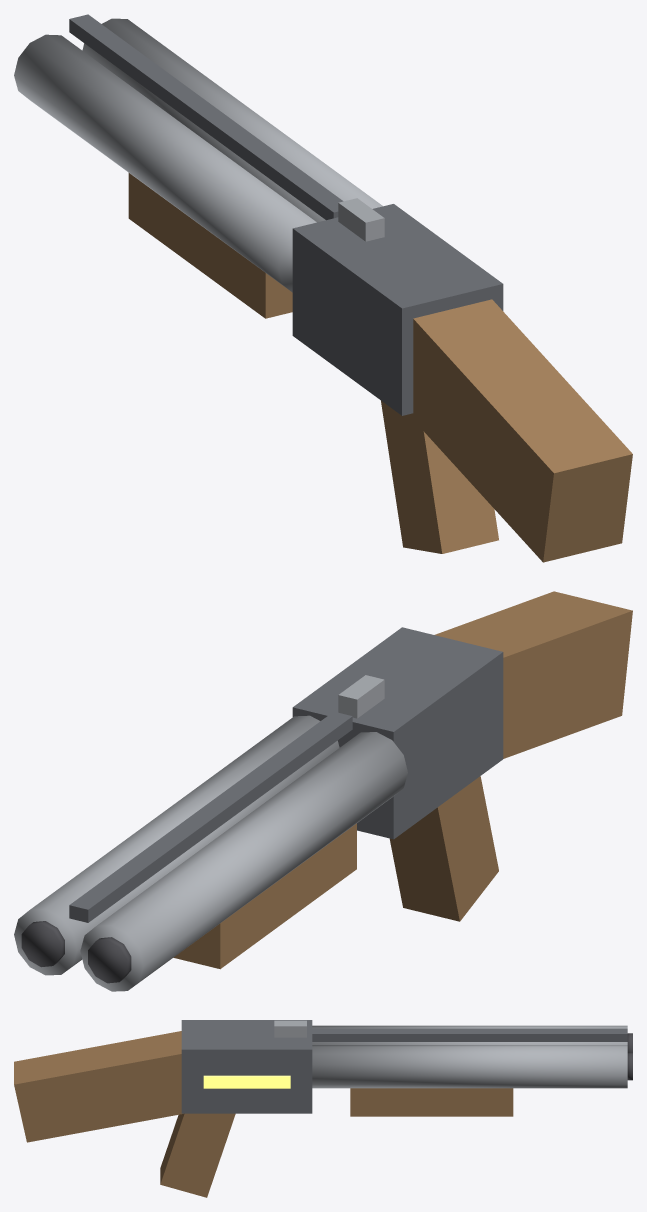
Rendered from ssg_held.gltf.
The picture shows the model from 3 angles, top to bottom: view 1: azimuth 30°, elevation 25°; view 2: azimuth 150°, elevation 25°; view 3: azimuth 270°, elevation 25°; orthographic projection. The views are drawn at different scales.
Parts seen in each view (by area): view 1: ssg_held; view 2: ssg_held; view 3: ssg_held.
Part boxes in pixels (bbox=[...]): ssg_held: bbox=[14, 14, 632, 562]; ssg_held: bbox=[14, 591, 632, 991]; ssg_held: bbox=[14, 1020, 632, 1197].
Bounding box in the file's own units: 0.082 × 0.1686 × 0.5694.
